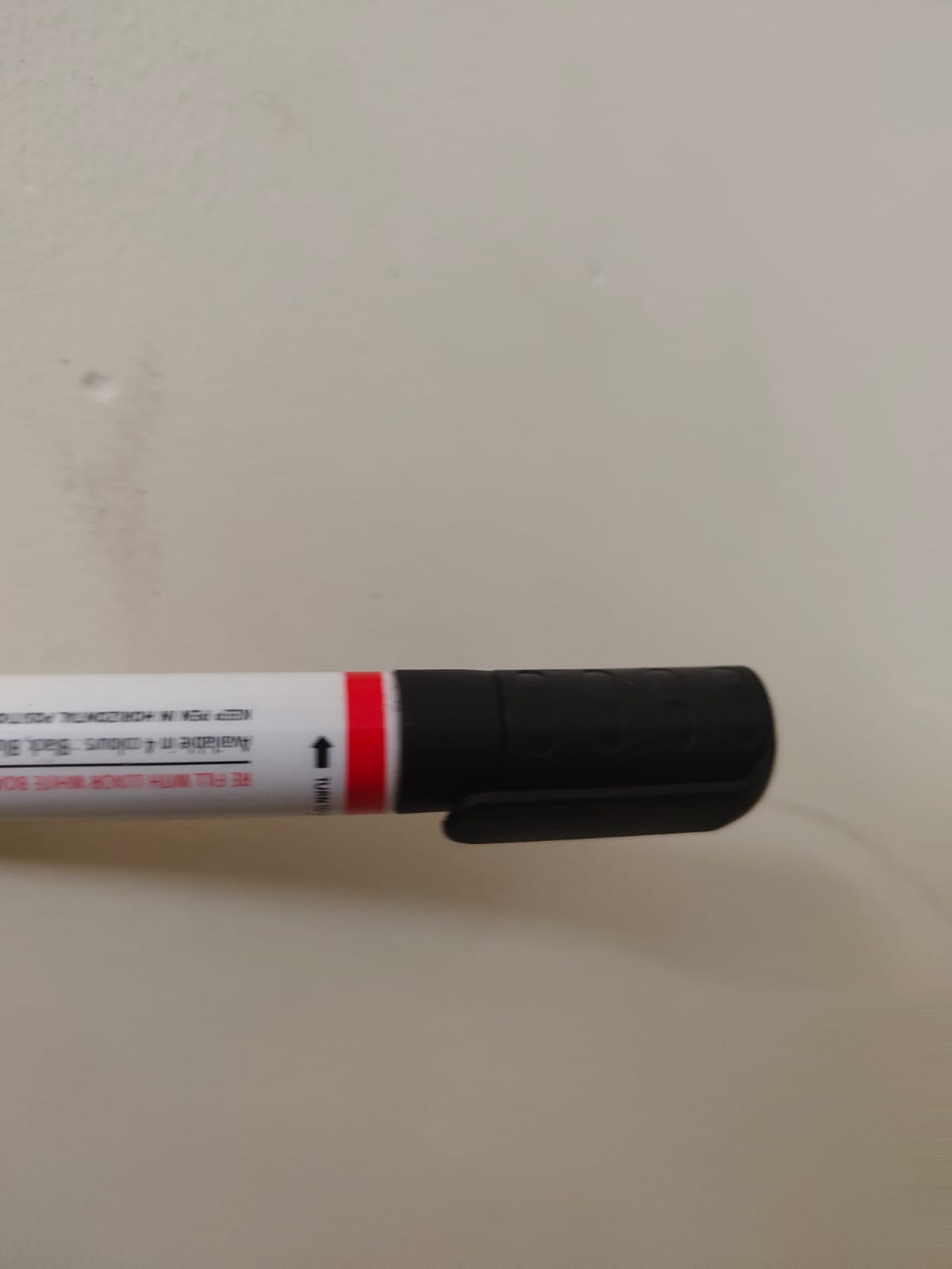case: (0, 665, 811, 878)
